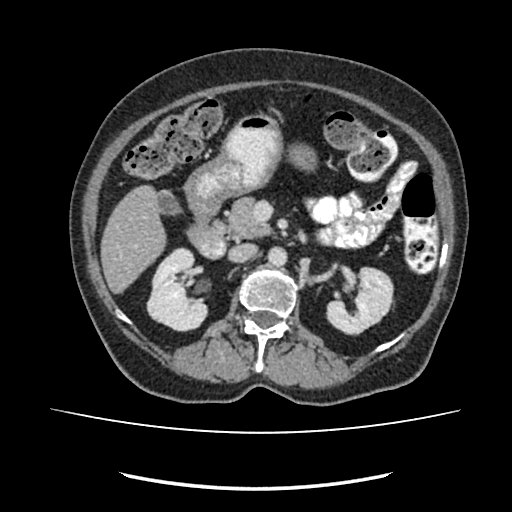aorta: (264, 242, 290, 268)
